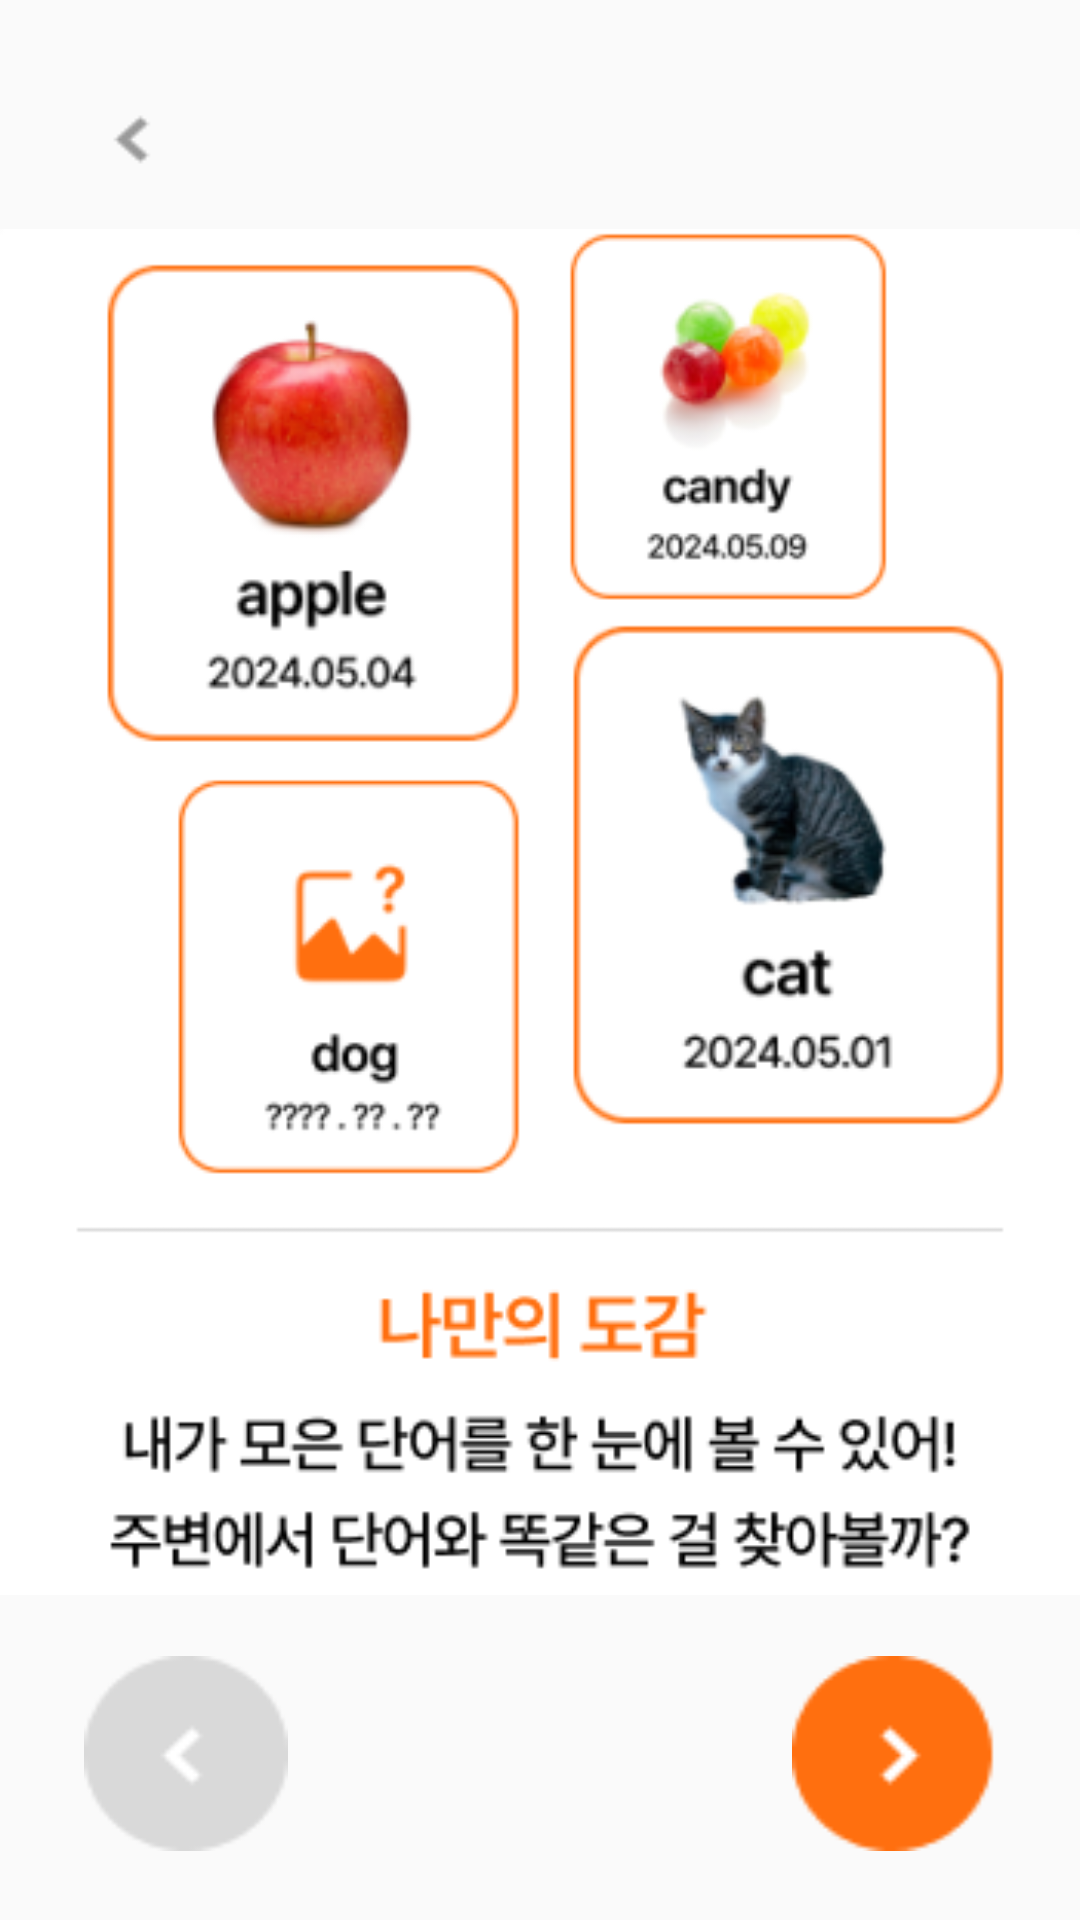

Locate icon controls on the screen. Image size 1080 x 1920, boxes as [x1,y1,x2,y2].
back2: [115,117,148,162]
before5: [84,1656,288,1851]
next7: [792,1656,994,1851]
